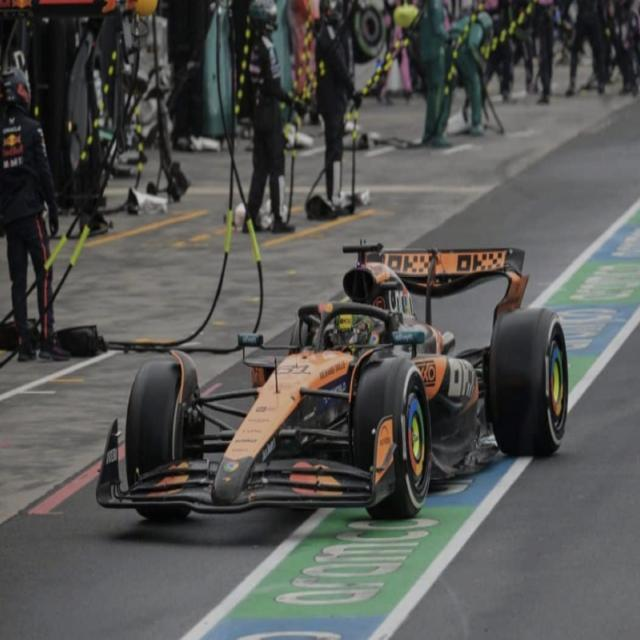McLaren: (96, 238, 569, 527)
